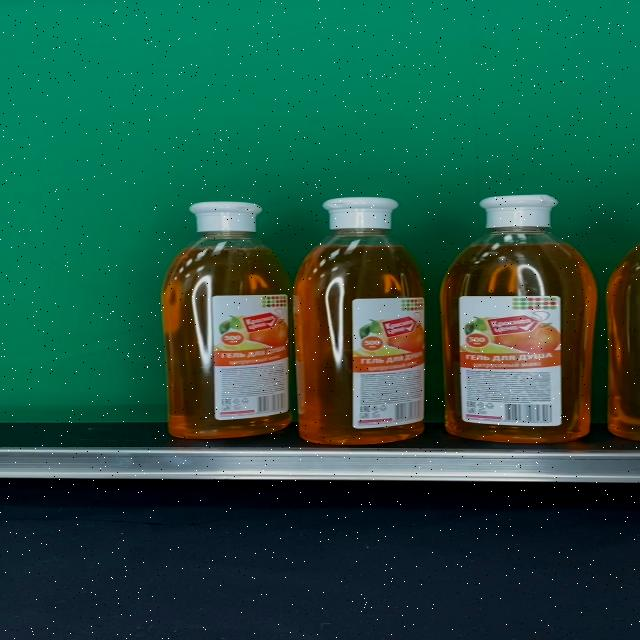Bottle: (440, 194, 597, 443), (292, 196, 424, 444), (162, 202, 288, 439)
Cap: (479, 194, 559, 228), (322, 197, 399, 230), (188, 202, 262, 234)
